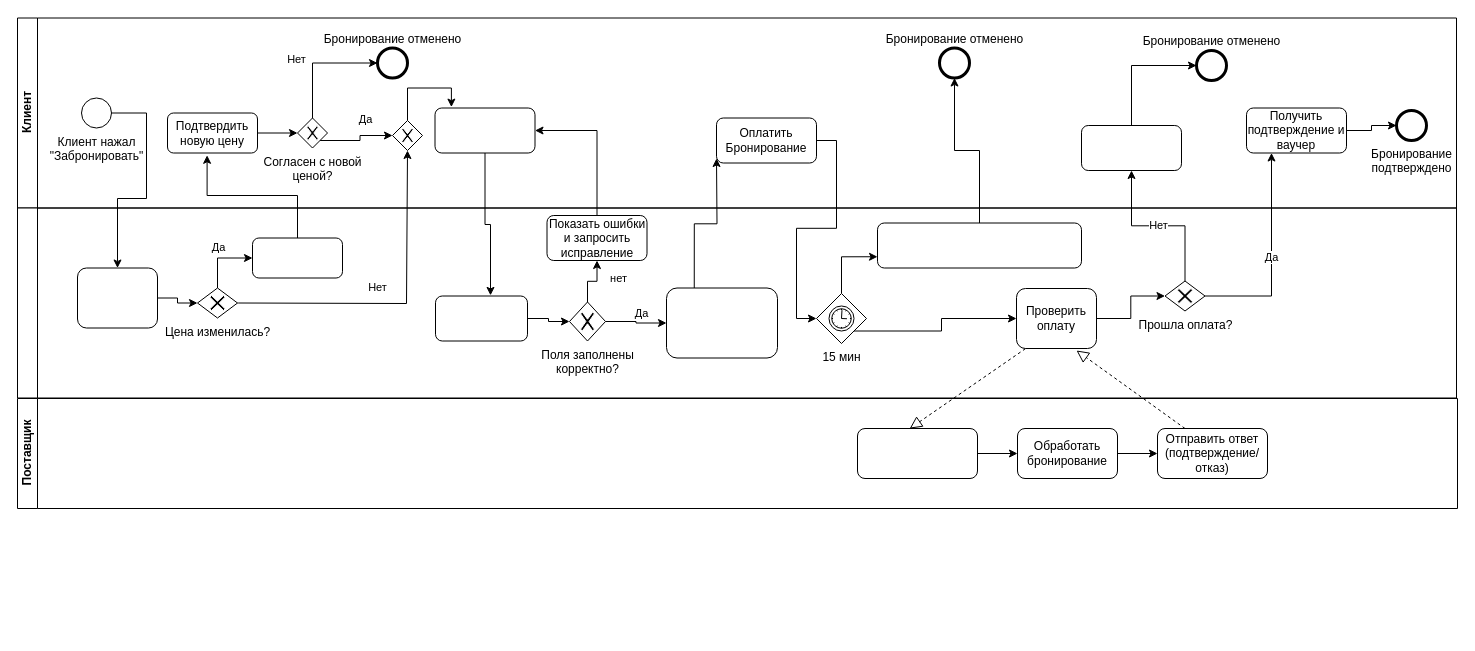
This 1475x651 diagram has some shape labels left out. The shapes that lost their labels are listed below. From the top down, each one's box as (x1, y1, x2, y2) in pixels, then its label:
(434, 107, 535, 153): Ввести данные гостей
(1080, 124, 1182, 170): Получить сообщение об отказе
(252, 237, 342, 278): Показать новую цену
(876, 222, 1082, 268): Отменить неуплаченную бронь по истечению времени
(76, 267, 158, 328): Проверить актуальность цены
(16, 207, 1456, 398): Система
(434, 295, 528, 341): Проверить заполнение полей
(666, 287, 778, 358): Создание брони со статусом "Ожидает оплаты"
(856, 428, 978, 478): Получить запрос на бронирование
